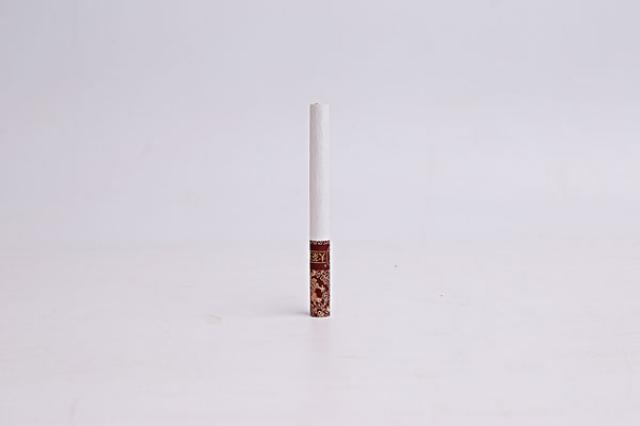Cigarette: (308, 100, 332, 320)
